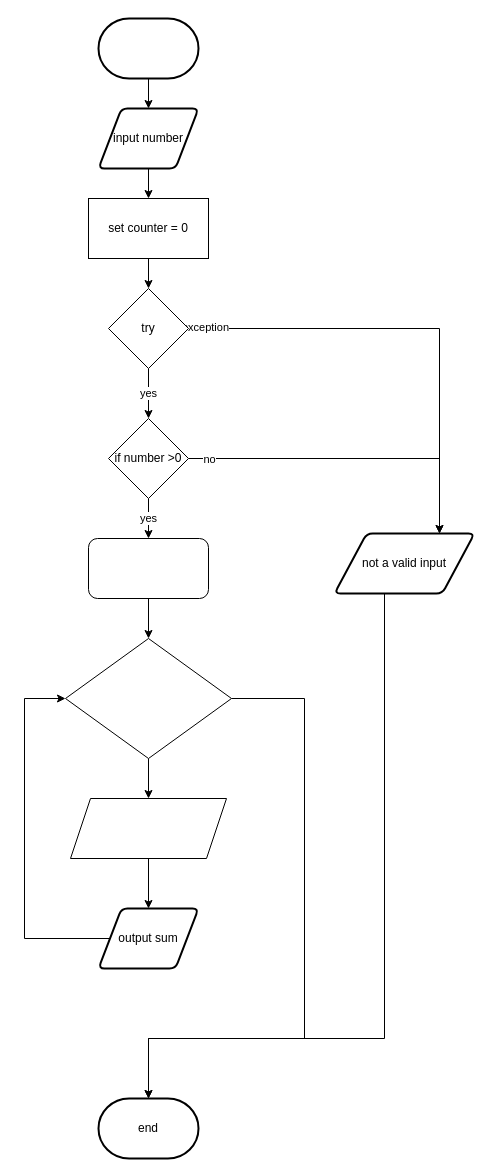
Some shapes in this 493 by 1176 pixel diagram are drawn without their labels. The centre of each missing label's shape, as x and y in pixels:
"convert int to string" goes at (x=148, y=568).
"for counter=1 counter<number counter ++" goes at (x=148, y=698).
"start" goes at (x=148, y=48).
"sum = counter x counter" goes at (x=148, y=828).
